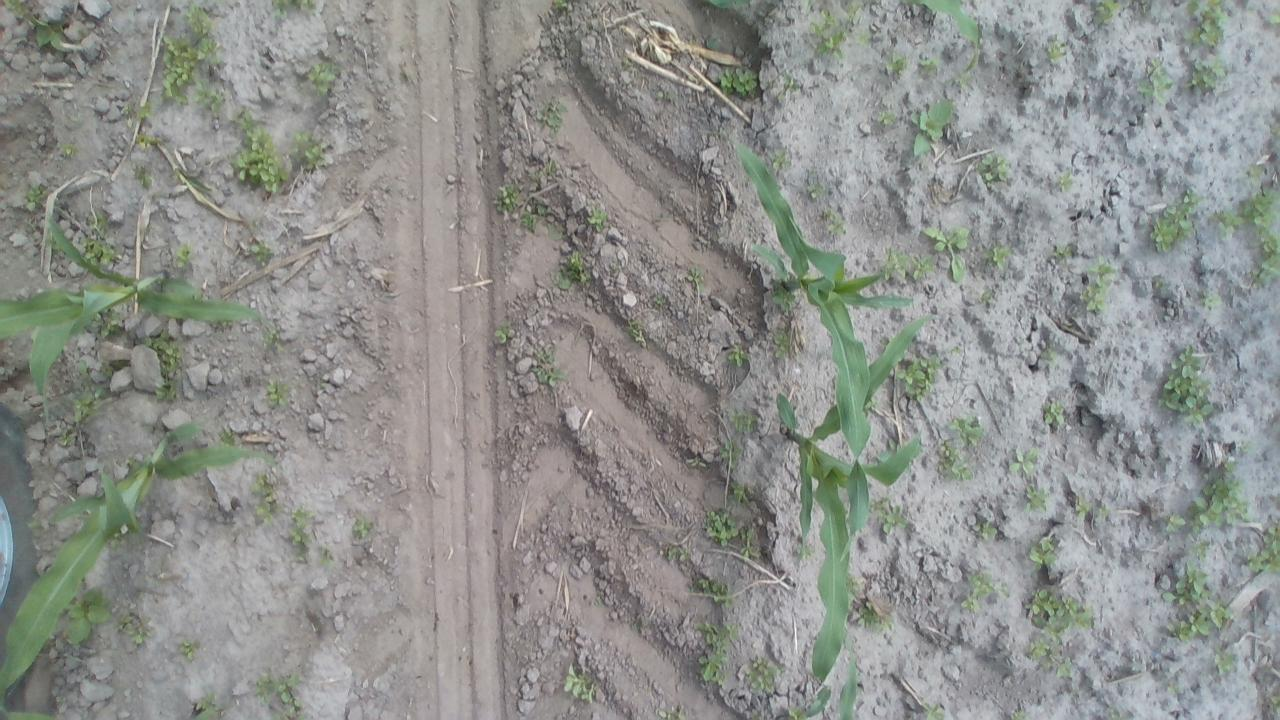Maize: (1, 424, 274, 720), (728, 136, 912, 564), (779, 313, 933, 686), (0, 211, 270, 417), (920, 0, 980, 75), (786, 664, 859, 720), (708, 0, 742, 9)
Weeds: (1216, 187, 1278, 286), (157, 6, 214, 100), (1166, 470, 1248, 534), (235, 110, 287, 194), (1163, 342, 1213, 428), (1024, 587, 1096, 634), (1151, 190, 1198, 254), (921, 226, 968, 284), (144, 332, 182, 403), (66, 588, 112, 646), (254, 670, 304, 718), (914, 99, 954, 158), (1162, 562, 1211, 606), (894, 354, 938, 402), (1187, 0, 1230, 49), (880, 248, 931, 284), (810, 11, 846, 58), (964, 570, 1000, 613), (1138, 55, 1174, 98), (565, 662, 599, 704), (252, 471, 278, 525), (78, 360, 114, 399), (26, 13, 65, 47), (286, 509, 310, 562), (704, 507, 738, 544), (1190, 56, 1228, 89), (744, 656, 778, 691), (689, 572, 730, 601), (557, 249, 586, 289), (937, 446, 972, 479), (1003, 444, 1039, 476), (1027, 534, 1060, 566), (697, 646, 727, 681), (536, 351, 566, 386), (86, 236, 123, 264), (1073, 493, 1109, 521), (122, 614, 153, 646), (720, 68, 758, 94), (948, 416, 982, 445), (294, 129, 323, 163), (272, 1, 316, 23), (306, 62, 336, 94), (699, 620, 738, 644), (1088, 258, 1117, 290), (194, 85, 228, 111), (1092, 0, 1126, 26), (879, 504, 910, 532), (536, 100, 568, 127), (192, 688, 220, 717), (492, 184, 520, 213), (1080, 286, 1110, 313), (982, 154, 1010, 182), (1262, 521, 1278, 570), (736, 528, 762, 558), (246, 240, 272, 268), (96, 311, 122, 337), (1042, 400, 1066, 427), (1242, 546, 1266, 572), (858, 604, 882, 630), (123, 101, 150, 124), (171, 241, 194, 268), (70, 392, 92, 420), (1026, 483, 1050, 508), (1186, 534, 1210, 559), (732, 408, 756, 433), (1213, 646, 1236, 672), (1185, 612, 1210, 635), (268, 382, 290, 408), (989, 242, 1010, 268), (625, 318, 645, 345), (1166, 618, 1190, 640), (1200, 286, 1222, 310), (713, 439, 731, 468), (1209, 605, 1232, 627), (730, 480, 748, 507), (1055, 654, 1075, 678), (586, 207, 606, 231), (770, 329, 786, 359), (520, 210, 541, 232), (824, 211, 844, 234), (6, 0, 30, 19), (972, 518, 997, 536), (918, 52, 943, 70), (729, 348, 750, 369), (923, 700, 945, 720), (352, 518, 373, 538), (132, 166, 151, 188), (1054, 170, 1073, 192), (664, 543, 687, 561), (841, 0, 859, 23), (135, 131, 159, 148), (774, 286, 792, 308), (1031, 638, 1050, 658), (783, 71, 802, 90), (886, 54, 904, 74), (26, 185, 47, 202), (1048, 246, 1070, 262), (57, 428, 76, 446), (181, 638, 197, 659), (769, 150, 788, 167), (687, 270, 703, 288), (496, 326, 510, 346), (60, 140, 76, 156), (794, 542, 810, 558), (1046, 45, 1062, 61), (530, 199, 545, 216), (1041, 348, 1057, 362), (878, 110, 894, 124), (806, 182, 820, 198), (857, 29, 870, 45), (1250, 166, 1264, 180), (1152, 274, 1166, 288), (1264, 14, 1280, 26), (704, 37, 718, 50), (552, 0, 568, 11), (981, 288, 994, 301), (654, 292, 666, 305), (1010, 711, 1027, 720)
